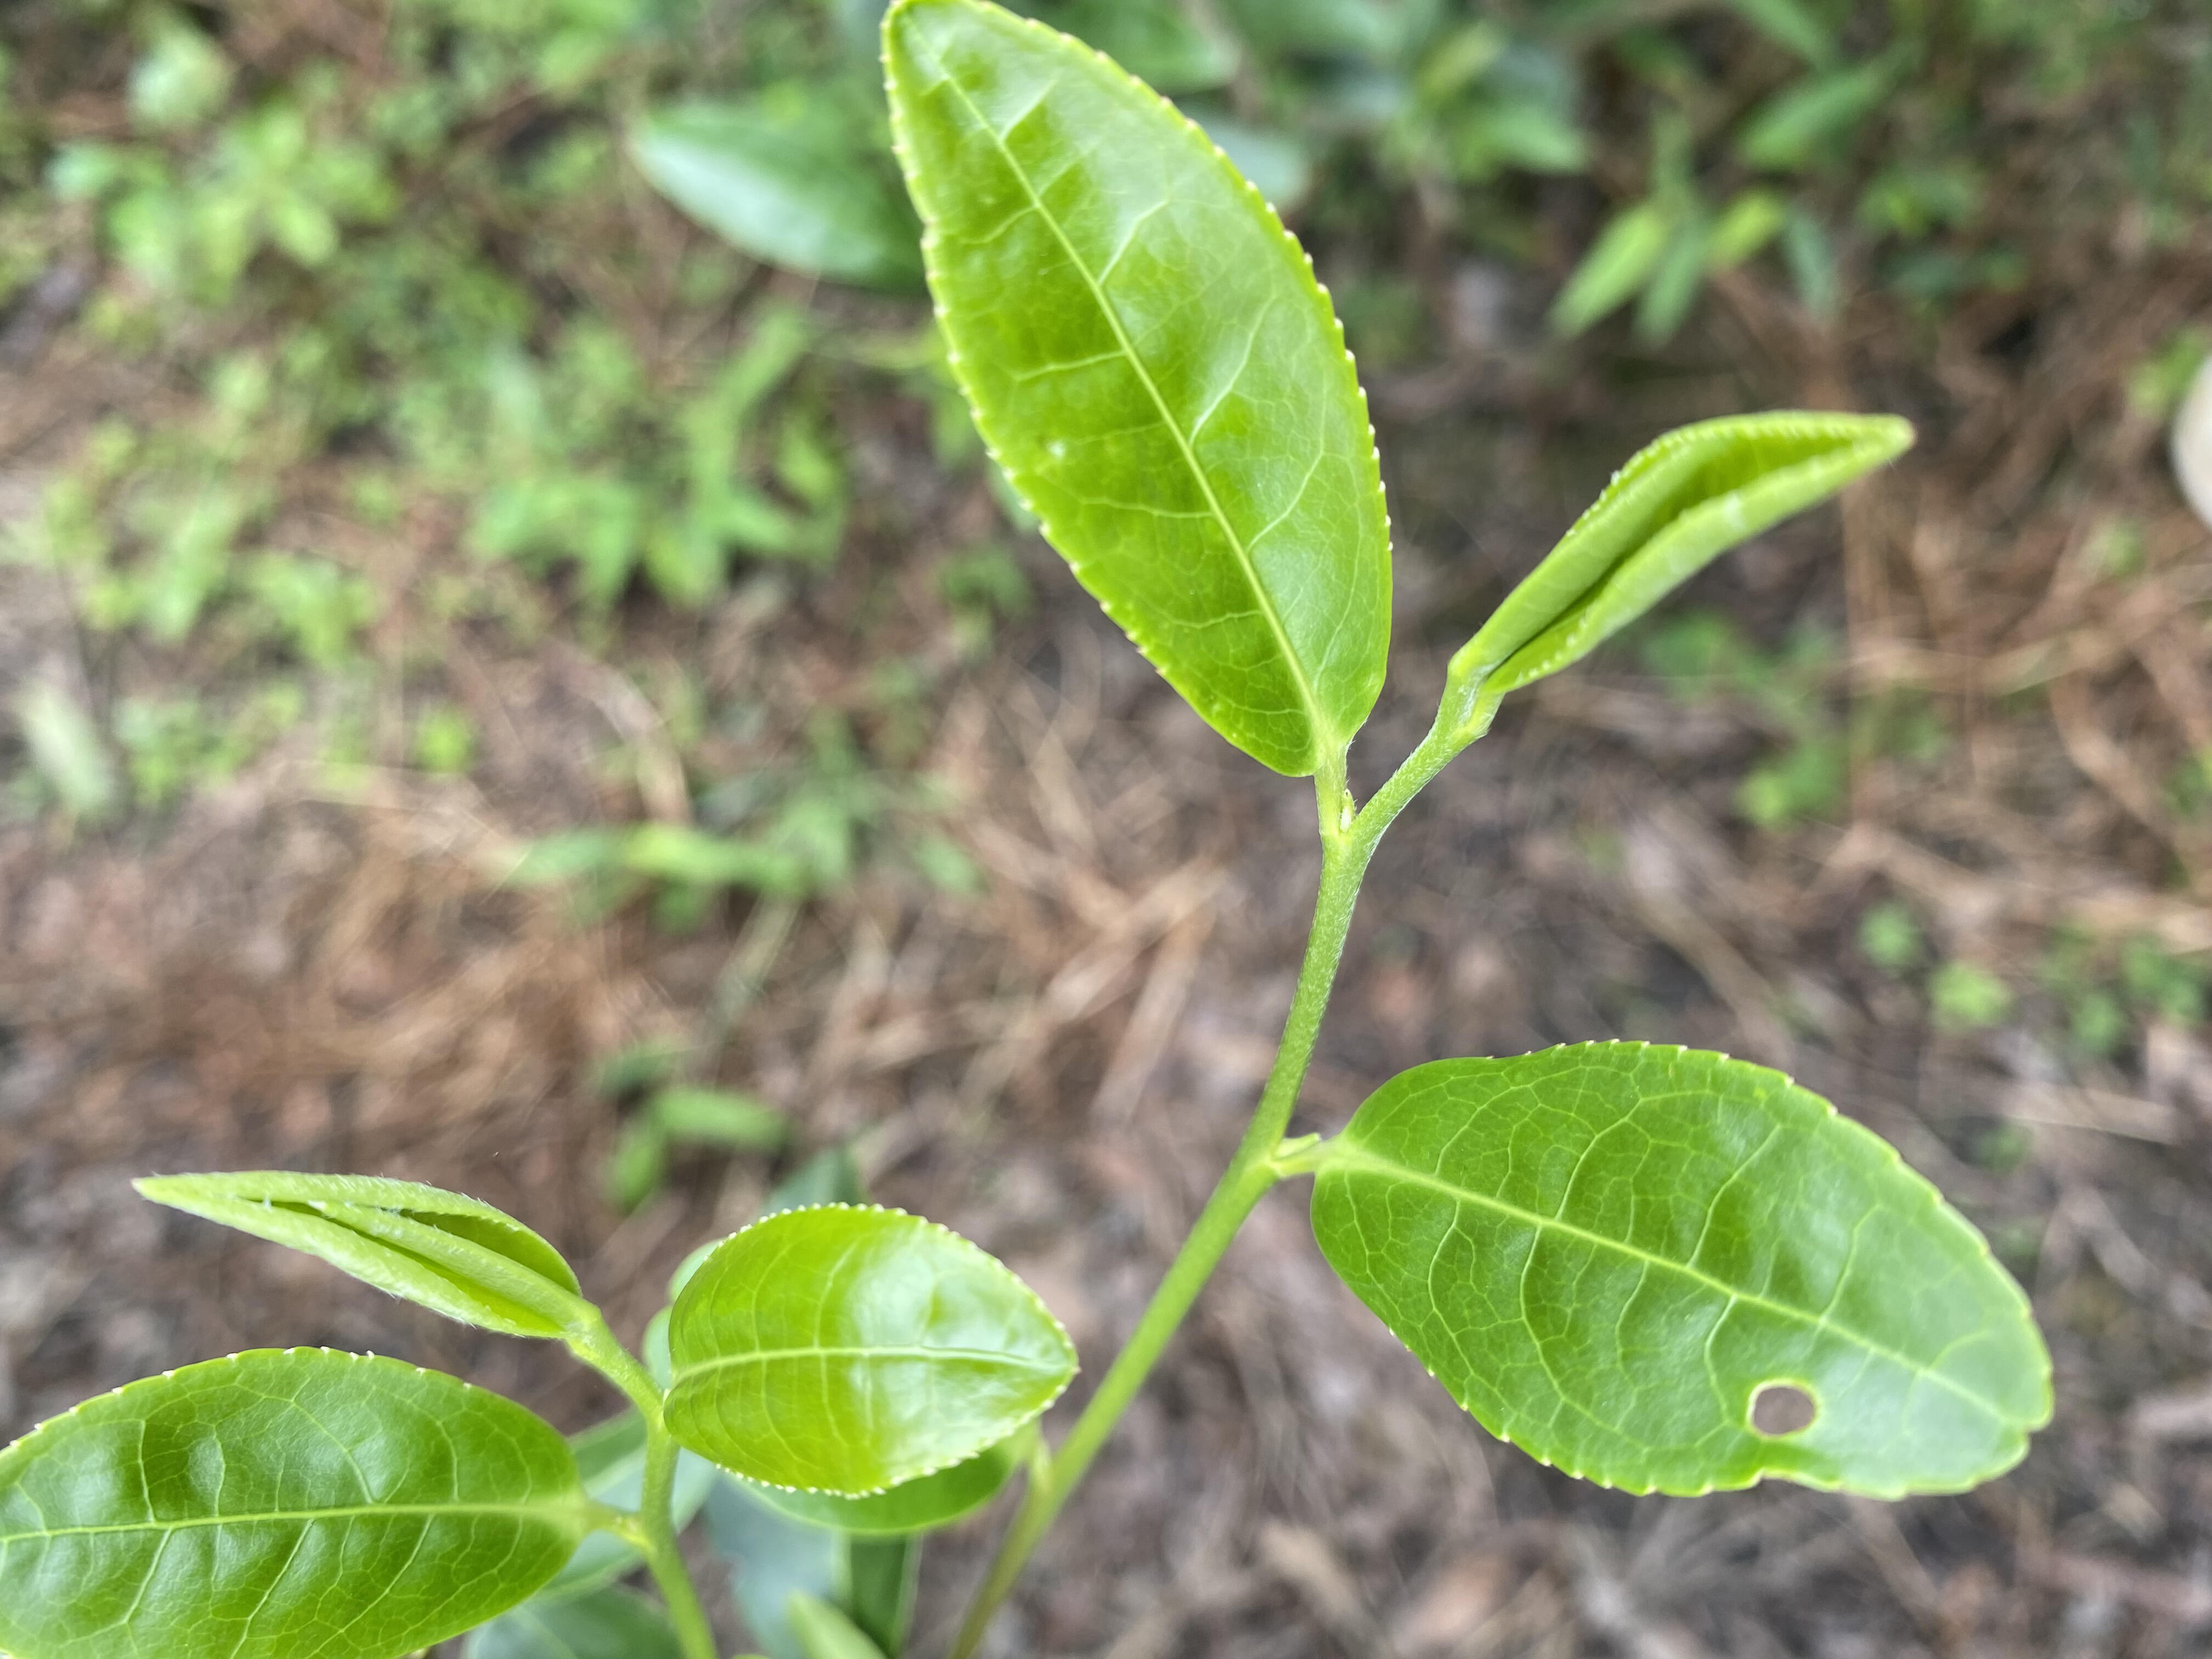chihuo_low: (1306, 1037, 2059, 1506)
healthy: (873, 3, 1395, 779), (2, 1342, 582, 1657), (662, 1199, 1082, 1497)
